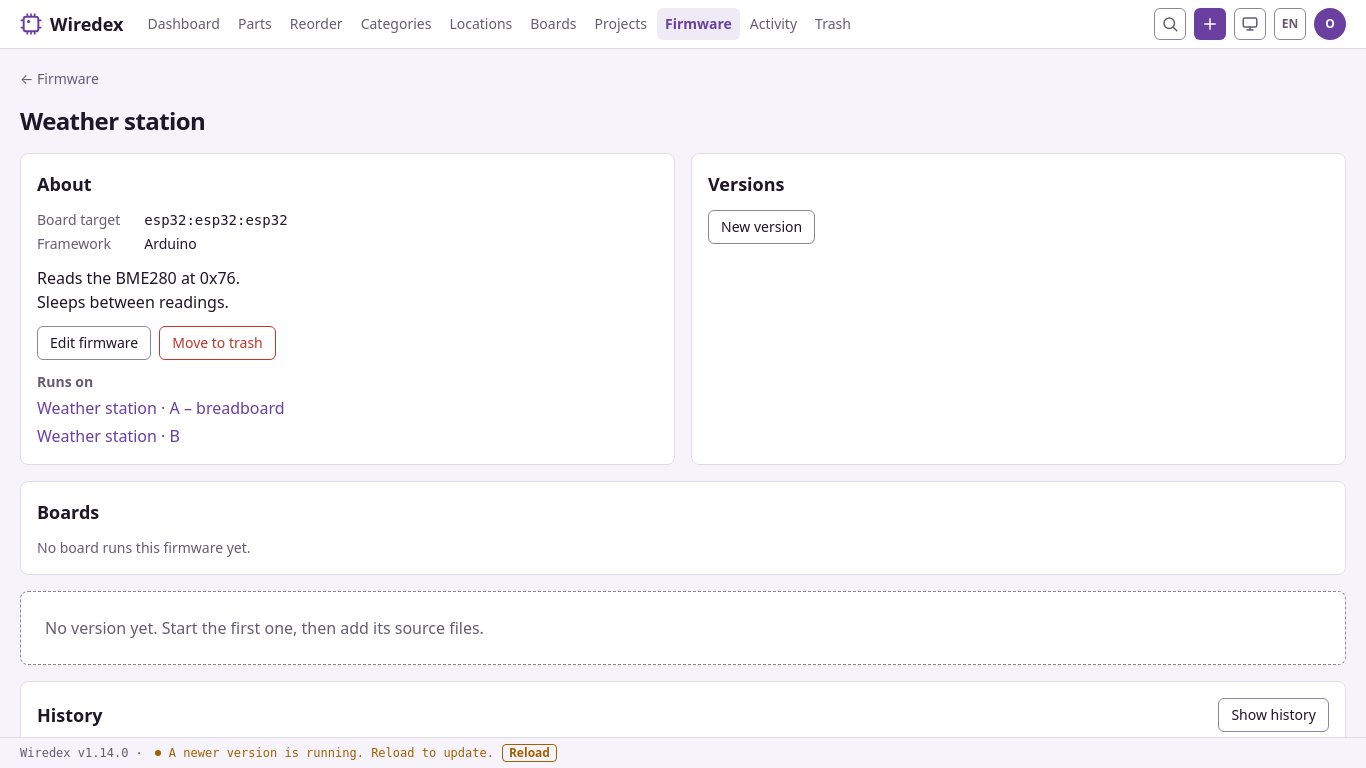
Test: FirmwarePage › edits the firmware in place and shows the saved details
Step 1. Click the button "Edit firmware" → (94, 343), box [37,326,151,360]
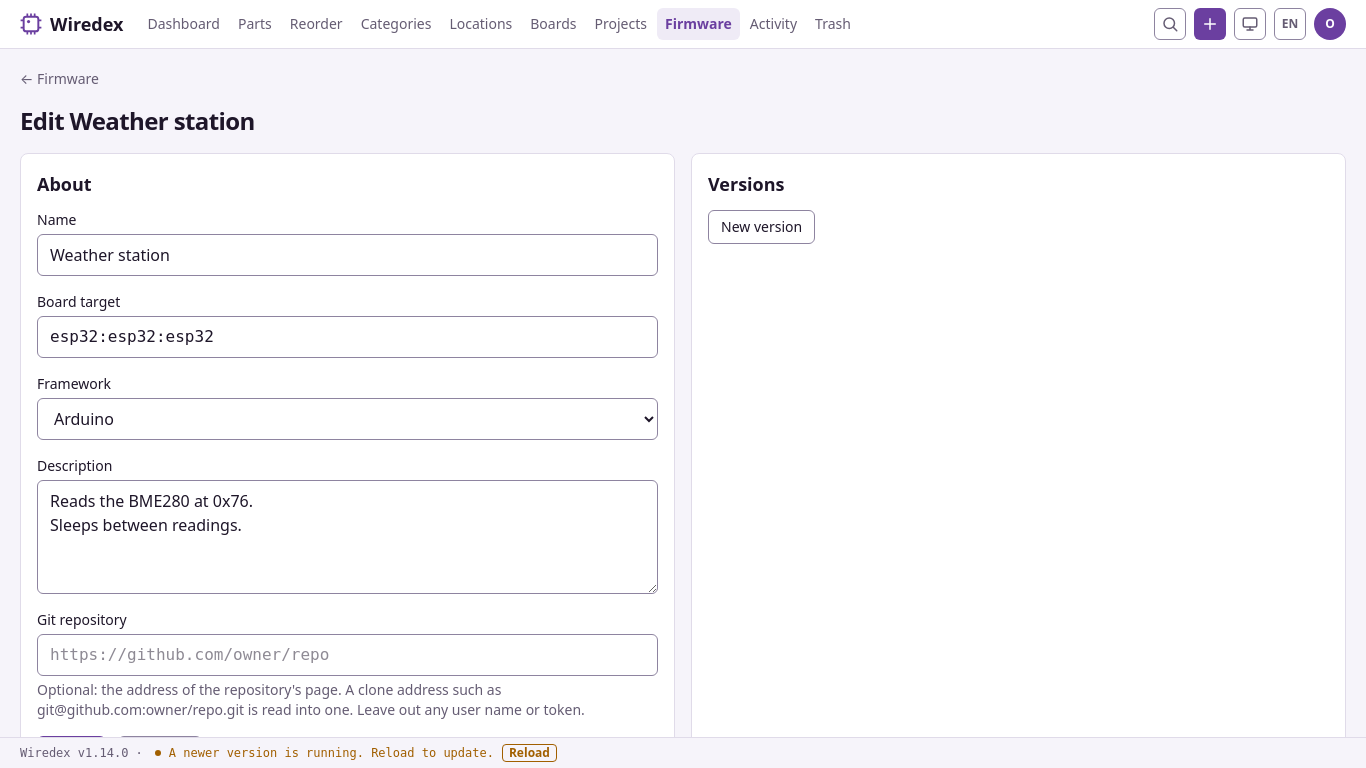
Check: the heading "Edit Weather station" is shown, box [20,104,255,137]
Check: the field labelled "Name" is shown
Check: the field labelled "Name" holds "Weather station"
Step 2. Replace the text in the field labelled "Name" with "Weather station mk2" → (348, 255), box [37,234,658,276]
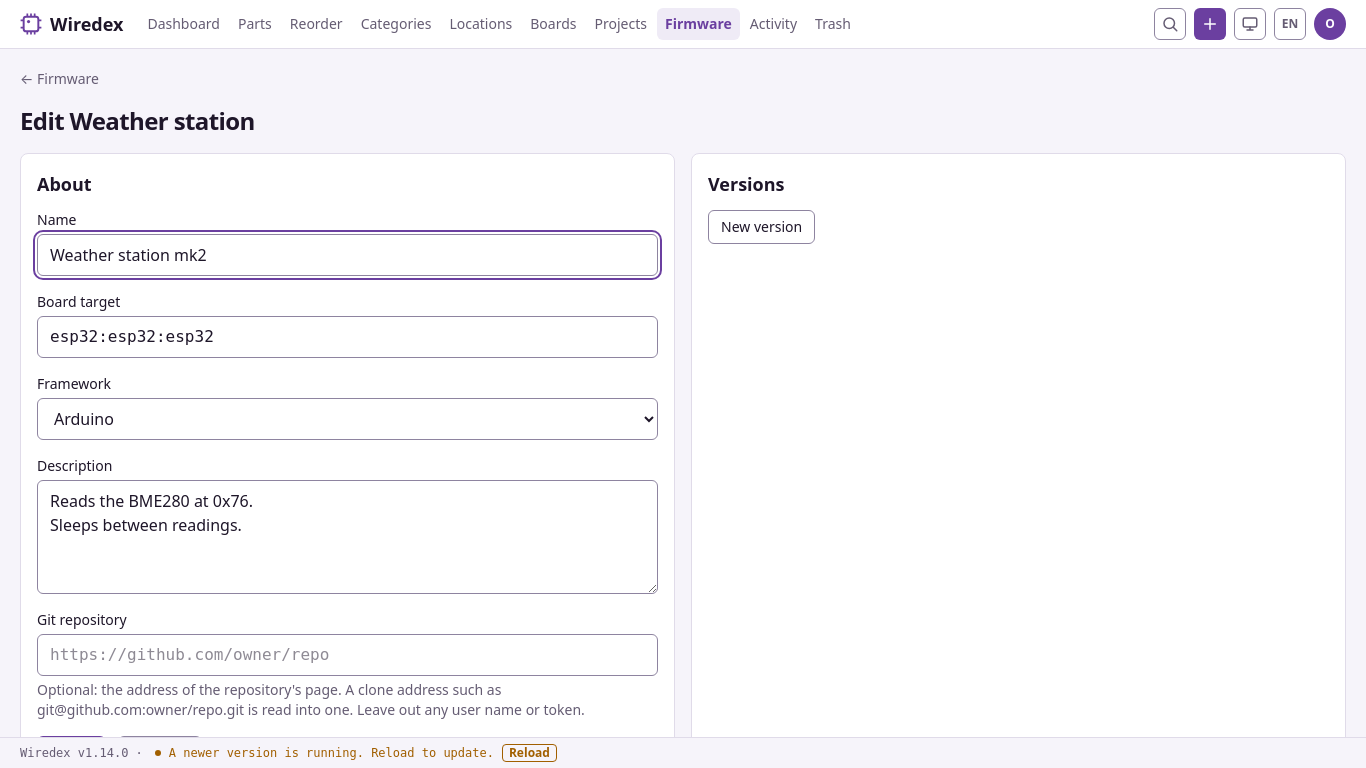
Step 3. Select "PlatformIO" in the dropdown labelled "Framework" → (348, 419), box [37,398,658,440]
(page scrolled)
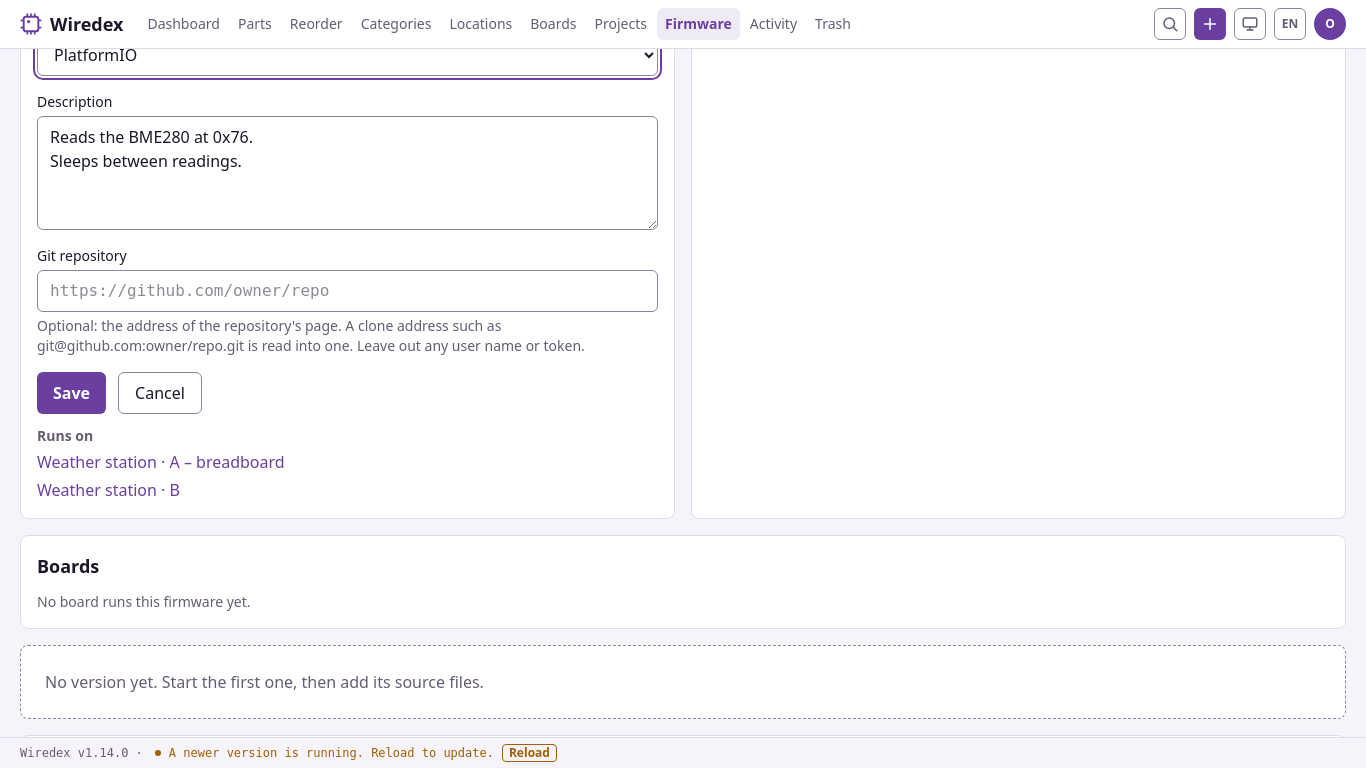
Step 4. Click the button "Save" → (72, 393), box [37,372,106,414]
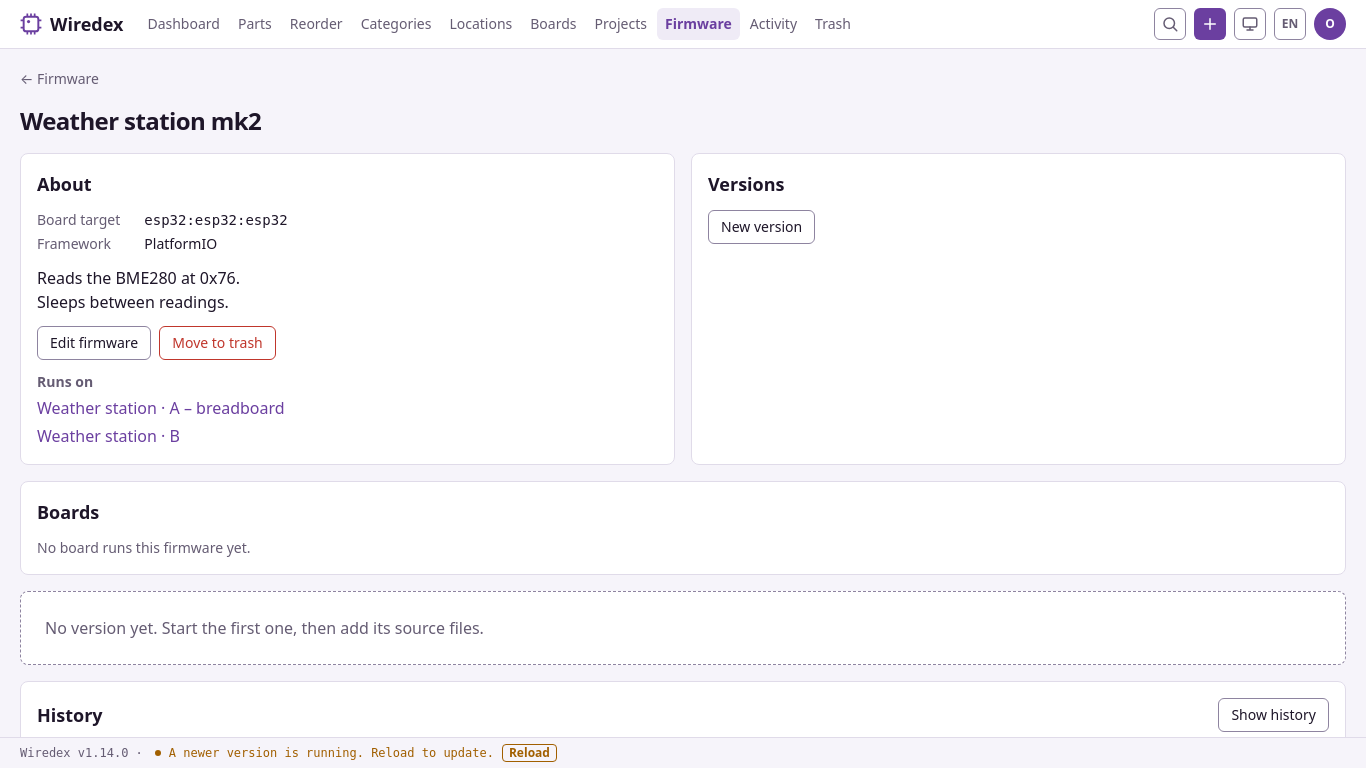
Check: the heading "Weather station mk2" is shown, box [20,104,261,137]
Check: the text "PlatformIO" is shown, box [144,234,217,253]
Check: the text "Name" is gone
